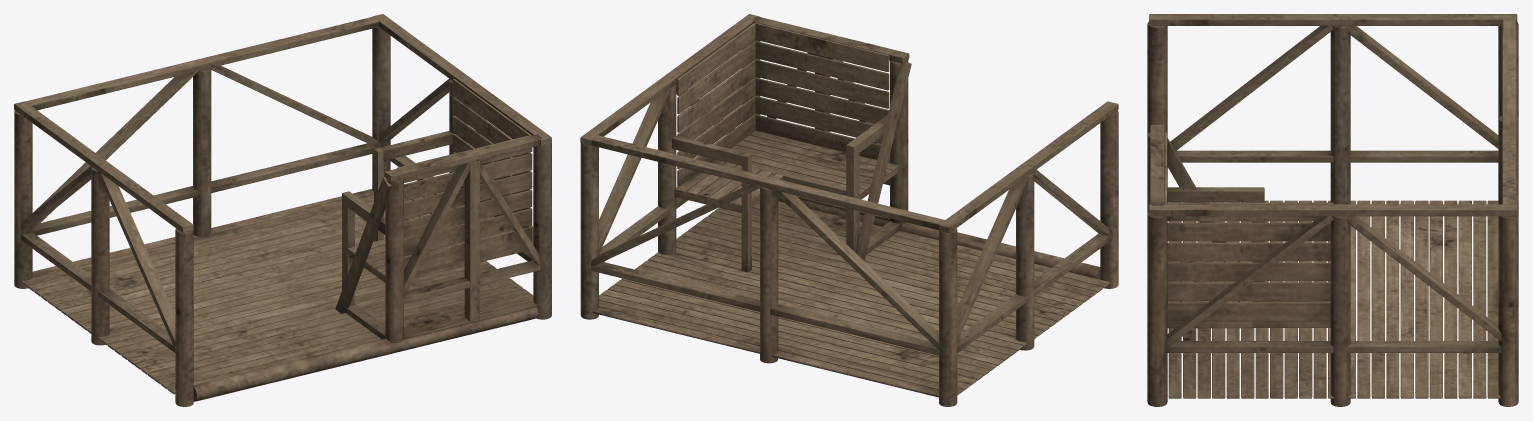
The model's file is estructura-final.glb.
3 views of the same model, side by side, from view 1: azimuth 30°, elevation 25°; view 2: azimuth 150°, elevation 25°; view 3: azimuth 270°, elevation 25° (orthographic). The views are drawn at different scales.
Parts seen in each view (by area): view 1: Mesh_0; view 2: Mesh_0; view 3: Mesh_0.
Boxes of the visible parts, x1,y1,x2,y2 form: Mesh_0: [14, 14, 551, 406]; Mesh_0: [580, 14, 1118, 406]; Mesh_0: [1147, 14, 1518, 406].
Size of the model in its own units: 13.83 by 6.36 by 10.91.
Materials: 3 (3 with a texture image).
